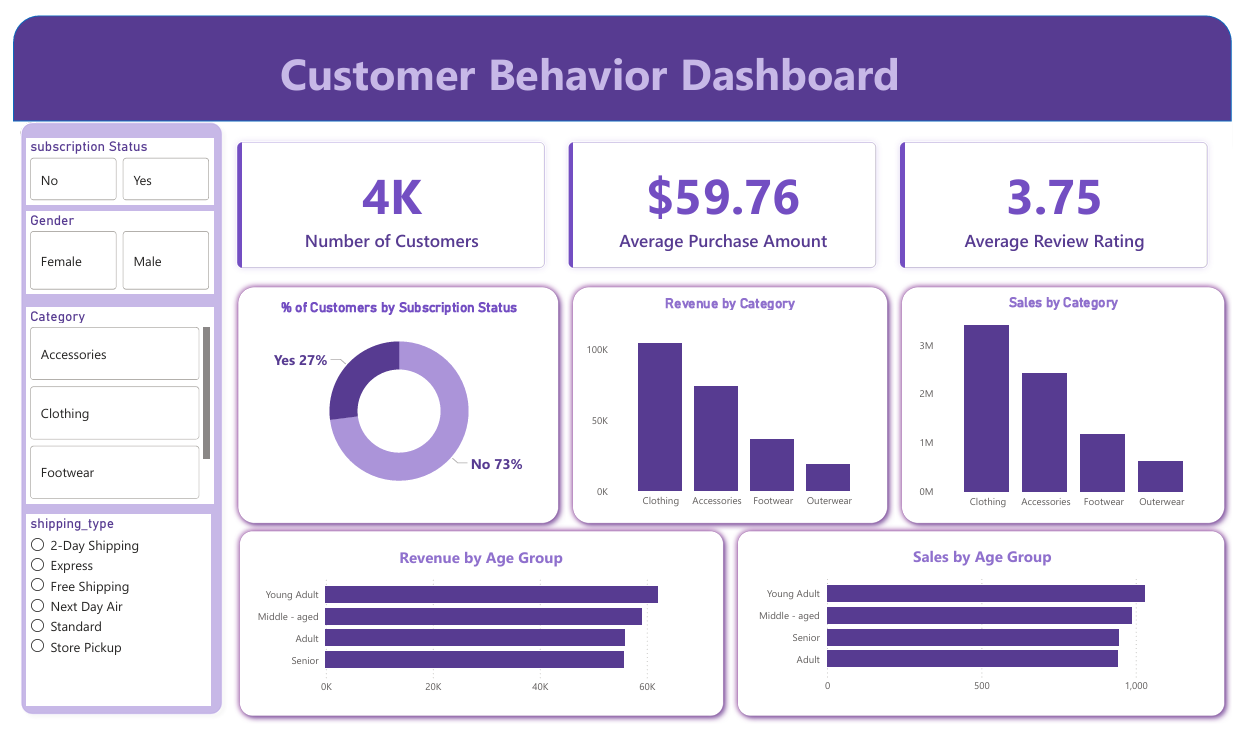

Layout of this report page (visuals, bound fields, positions):
{"tool":"powerbi","page":{"name":"Page 1","canvas":[1500,870],"ordinal":0},"visuals":[{"type":"cardVisual","fields":{"Data":["public customer.Number of Customers","public customer.Average Purchase Amount","public customer.Average Review Rating"]},"box":[246.9,130.6,1253.1,212.2],"z":0},{"type":"shape","box":[0,0,1500,130],"z":1000},{"type":"textbox","box":[65,27.5,1290,85],"z":2000},{"type":"shape","box":[267.5,325,412.5,307.5],"z":3000},{"type":"donutChart","title":"% of Customers by Subscription Status","fields":{"Category":["public customer.subscription_status"],"Y":["CountNonNull(public customer.customer_id)"]},"box":[290,348,370,258],"z":4000},{"type":"shape","box":[680,325,405,307.5],"z":5000},{"type":"shape","box":[1085,325,415,307.5],"z":6000},{"type":"clusteredColumnChart","title":"Revenue by Category","fields":{"Y":["Sum(public customer.purchase_amount)"],"Category":["public customer.category"]},"box":[700,342.5,365,272.5],"z":7000},{"type":"clusteredColumnChart","title":"Sales by Category","fields":{"Y":["Sum(public customer.customer_id)"],"Category":["public customer.category"]},"box":[1110,342,366,274],"z":8000},{"type":"shape","box":[20,123.3,248.3,746.7],"z":9000},{"type":"advancedSlicerVisual","title":"subscription Status","fields":{"Values":["public customer.subscription_status"]},"box":[42.5,150,205,82.5],"z":10000},{"type":"advancedSlicerVisual","title":"Gender","fields":{"Values":["public customer.gender"]},"box":[42.5,240,205,102.5],"z":11000},{"type":"advancedSlicerVisual","title":"Category","fields":{"Values":["public customer.category"]},"box":[42.5,360,205,240],"z":12000},{"type":"listSlicer","fields":{"Values":["public customer.shipping_type"]},"box":[42.5,615,200,233.8],"z":13000},{"type":"clusteredBarChart","title":"Revenue by Age Group","fields":{"Y":["Sum(public customer.purchase_amount)"],"Category":["public customer.age_group"]},"box":[290,652.5,570,190],"z":14000},{"type":"shape","box":[270,625,612.5,245],"z":15000},{"type":"shape","box":[883.3,625,616.7,245],"z":16000},{"type":"clusteredBarChart","title":"Revenue by Age Group","fields":{"Y":["Sum(public customer.purchase_amount)"],"Category":["public customer.age_group"]},"box":[291.2,652.5,570,190],"z":17000},{"type":"clusteredBarChart","title":"Sales by Age Group","fields":{"Y":["CountNonNull(public customer.customer_id)"],"Category":["public customer.age_group"]},"box":[908,652,570,190],"z":18000}]}

Visuals, with their boxes in screenshot pixels (x1, y1, x2, y2), scaled from the page's 1500x870 canvas onto the 1244x735 screenshot:
cardVisual - public customer.Number of Customers x public customer.Average Purchase Amount: (left=205, top=110, right=1243, bottom=290)
shape: (left=0, top=0, right=1243, bottom=110)
textbox: (left=54, top=23, right=1124, bottom=95)
shape: (left=222, top=275, right=564, bottom=534)
"% of Customers by Subscription Status" donutChart: (left=241, top=294, right=547, bottom=512)
shape: (left=564, top=275, right=900, bottom=534)
shape: (left=900, top=275, right=1243, bottom=534)
"Revenue by Category" clusteredColumnChart: (left=581, top=289, right=883, bottom=520)
"Sales by Category" clusteredColumnChart: (left=921, top=289, right=1224, bottom=520)
shape: (left=17, top=104, right=223, bottom=734)
"subscription Status" advancedSlicerVisual: (left=35, top=127, right=205, bottom=196)
"Gender" advancedSlicerVisual: (left=35, top=203, right=205, bottom=289)
"Category" advancedSlicerVisual: (left=35, top=304, right=205, bottom=507)
listSlicer - public customer.shipping_type: (left=35, top=520, right=201, bottom=717)
"Revenue by Age Group" clusteredBarChart: (left=241, top=551, right=713, bottom=712)
shape: (left=224, top=528, right=732, bottom=734)
shape: (left=733, top=528, right=1243, bottom=734)
"Revenue by Age Group" clusteredBarChart: (left=242, top=551, right=714, bottom=712)
"Sales by Age Group" clusteredBarChart: (left=753, top=551, right=1226, bottom=711)
